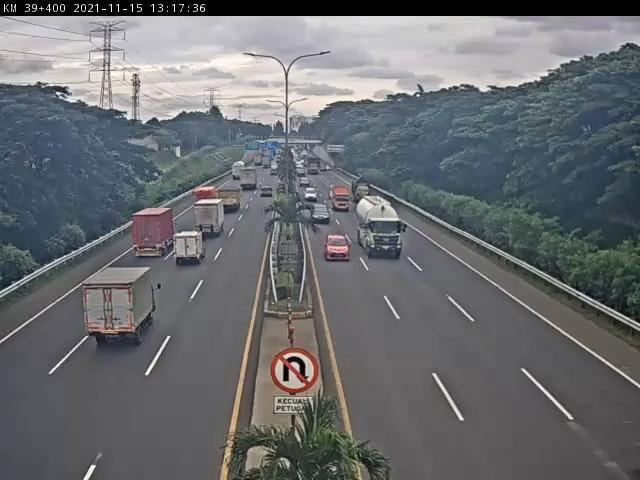car: (323, 233, 352, 265), (310, 204, 333, 227)
truck: (85, 267, 161, 345), (356, 194, 410, 261), (132, 210, 178, 261), (196, 197, 228, 235), (175, 233, 207, 266), (219, 186, 244, 212), (331, 186, 353, 213)
